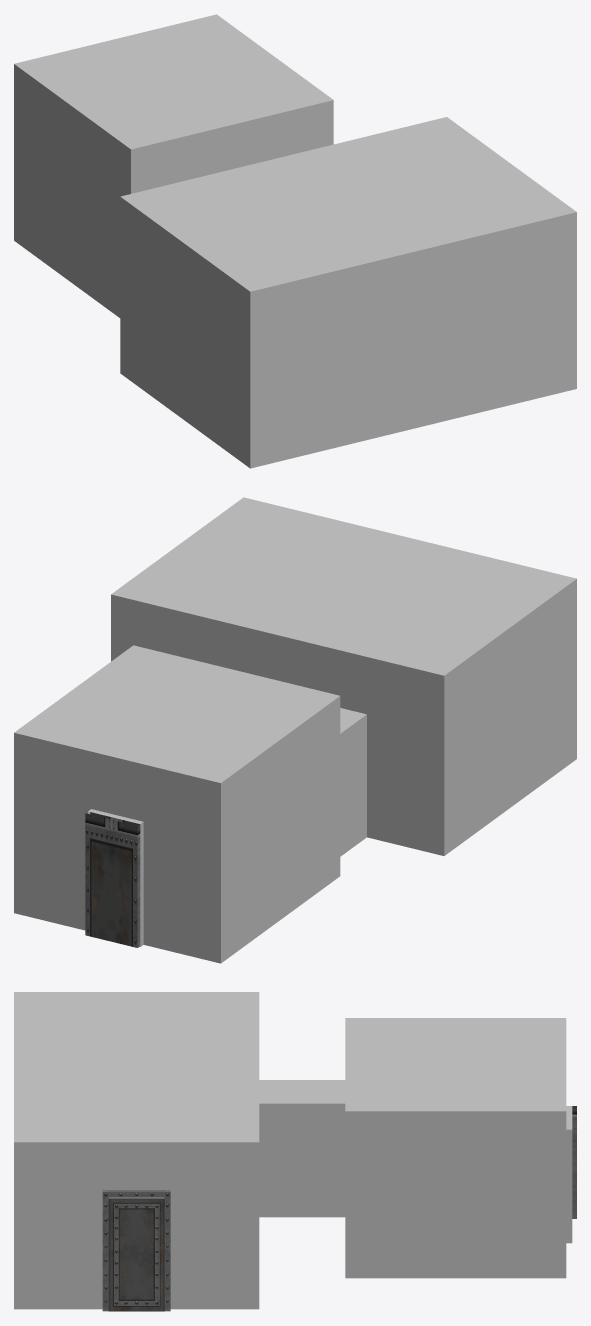
File: Rooms_Level.fbx
The picture shows the model from 3 angles, top to bottom: view 1: azimuth 30°, elevation 25°; view 2: azimuth 150°, elevation 25°; view 3: azimuth 270°, elevation 25°; orthographic projection. The views are drawn at different scales.
Visible parts, largest first — view 1: Level1_Room; view 2: Level1_Room, Door.004|Door.001|Dupli|; view 3: Level1_Room, SafeDoor|Safe_Door|Dupli|, SafeDoor|Safe_DoorFrame|Dupli|1, Door.004|Door.001|Dupli|.
Part boxes in pixels (box(x1,y1,x2,y2)): Level1_Room: box(14, 14, 576, 468); Level1_Room: box(14, 497, 576, 963); Door.004|Door.001|Dupli|: box(85, 812, 140, 947); Level1_Room: box(14, 992, 572, 1311); SafeDoor|Safe_Door|Dupli|: box(108, 1198, 164, 1311); SafeDoor|Safe_DoorFrame|Dupli|1: box(102, 1190, 170, 1311); Door.004|Door.001|Dupli|: box(572, 1106, 576, 1218).
Size of the model in its own units: 590 by 300 by 918.
